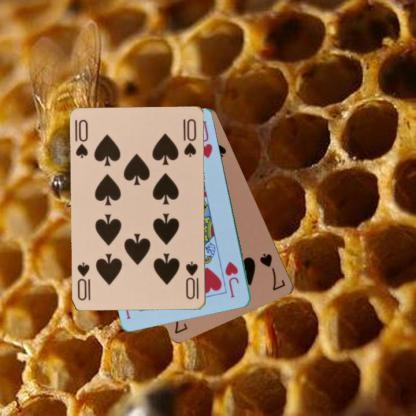10s: (183, 258, 201, 300), (74, 117, 90, 160)
7s: (257, 250, 287, 292)
Jh: (222, 259, 240, 299)
